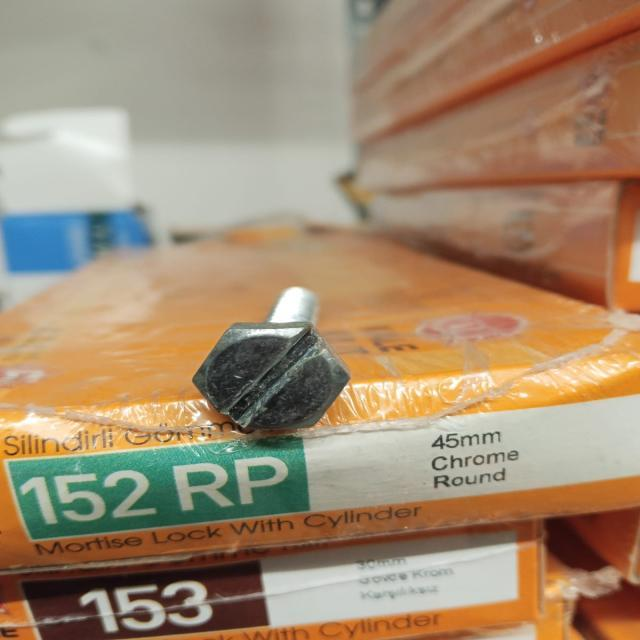duz: (191, 321, 352, 432)
